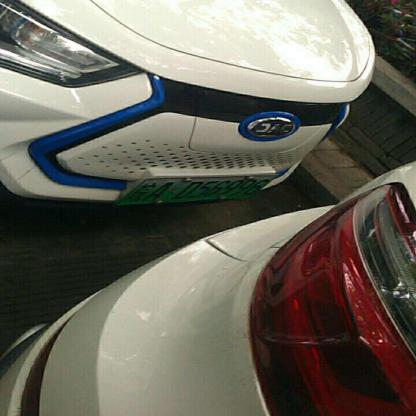lp: (120, 175, 280, 205)
